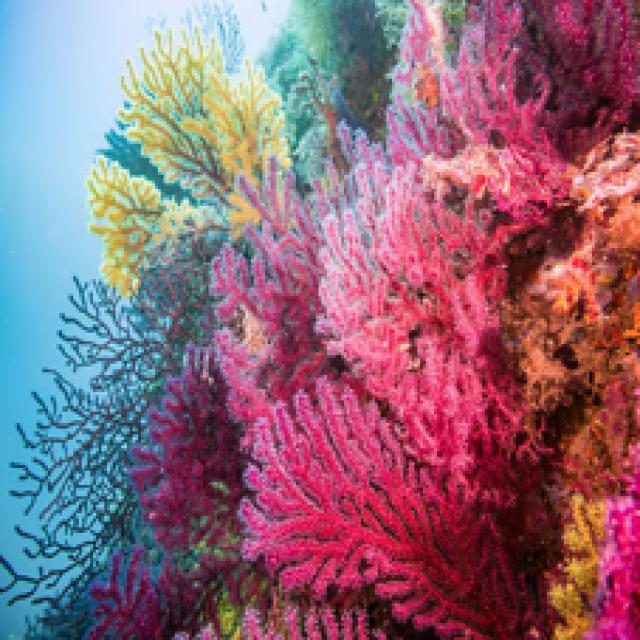Healthy: (1, 241, 210, 638), (246, 379, 511, 638), (88, 24, 289, 297), (317, 162, 480, 466), (390, 1, 568, 229), (506, 131, 638, 432), (212, 162, 325, 427), (134, 348, 241, 551), (511, 1, 638, 156), (551, 441, 638, 638), (88, 548, 193, 638), (243, 604, 384, 638)
